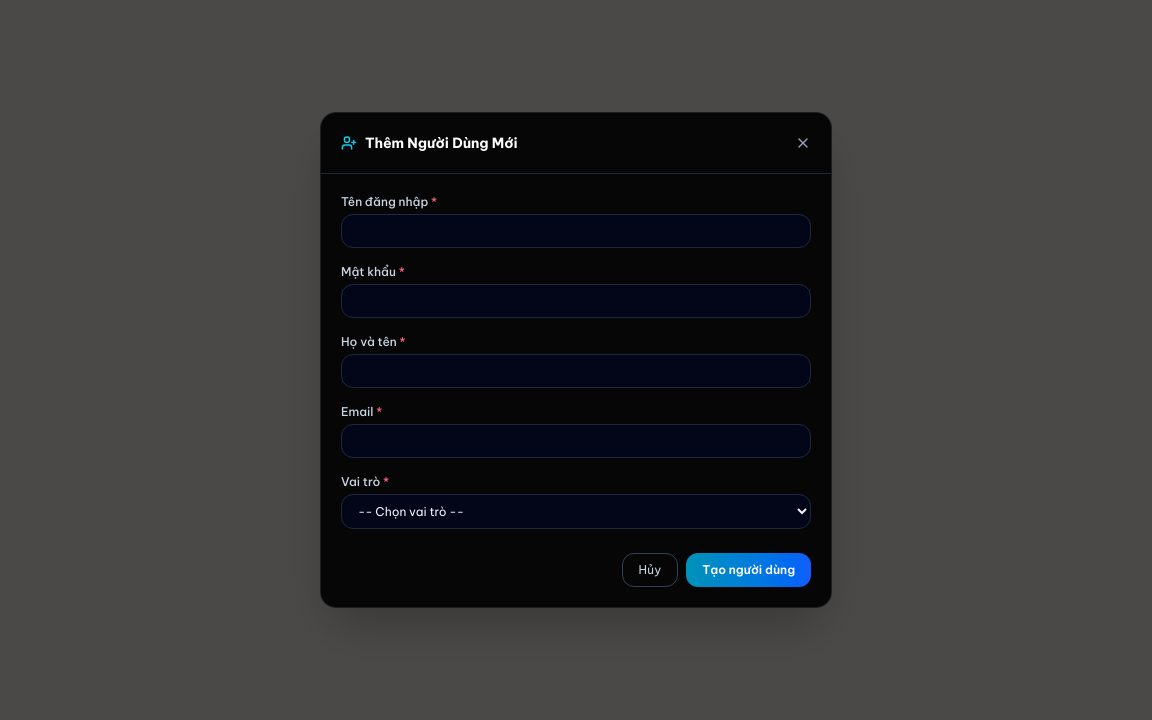
UserFormModal validation and error messages › clears an error once the user edits that field
Click the button "Tạo người dùng" at {"x": 749, "y": 570}, box [686,553,811,587]
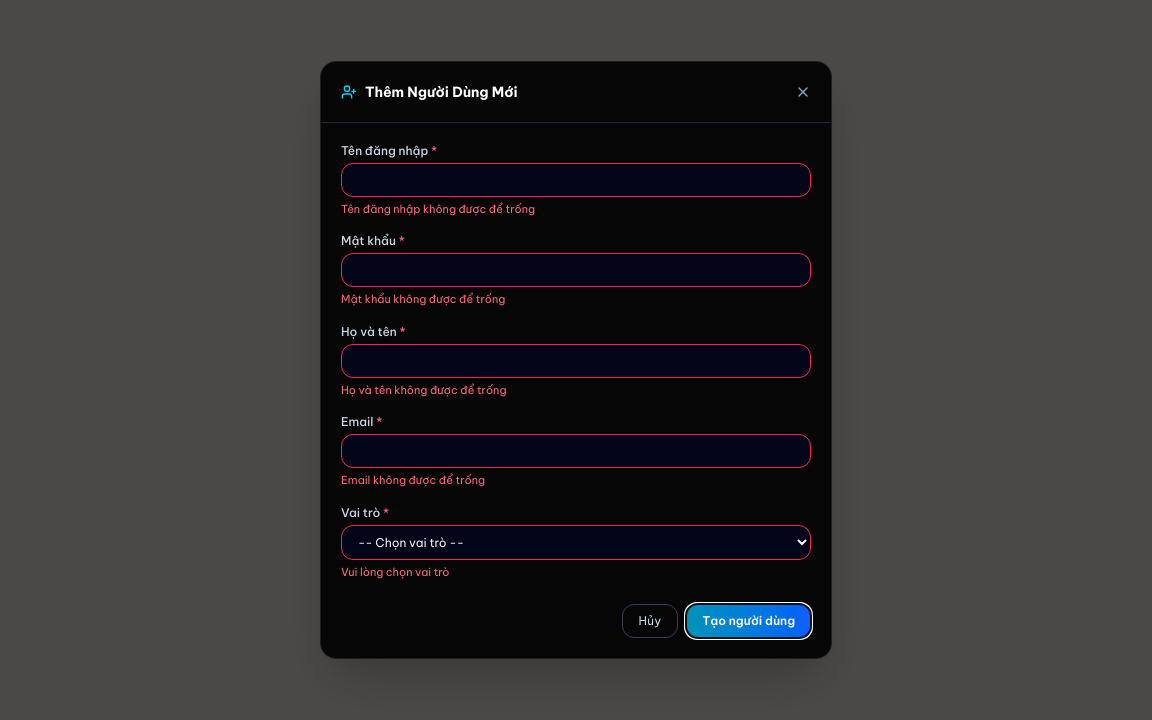
expect the text "Email không được để trống" is shown: met, box [341,473,485,487]
Type "a" into the field labelled "Email *" at {"x": 576, "y": 451}, box [341,434,811,468]
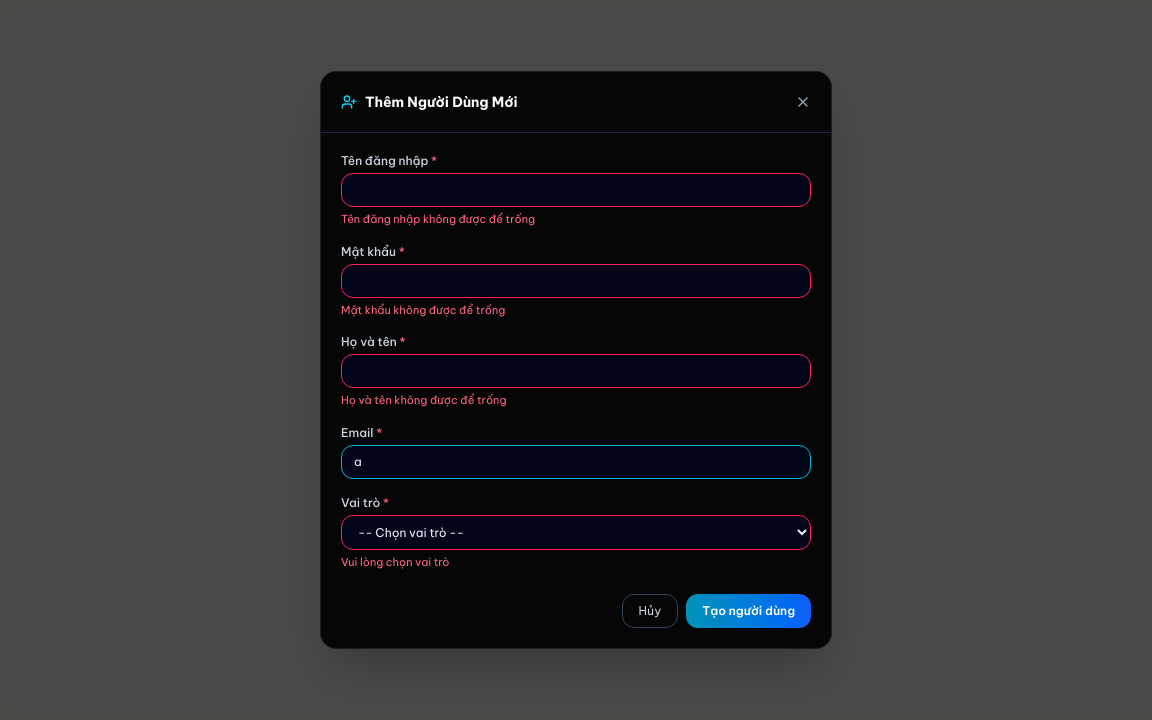
expect the text "Email không được để trống" is gone: met
